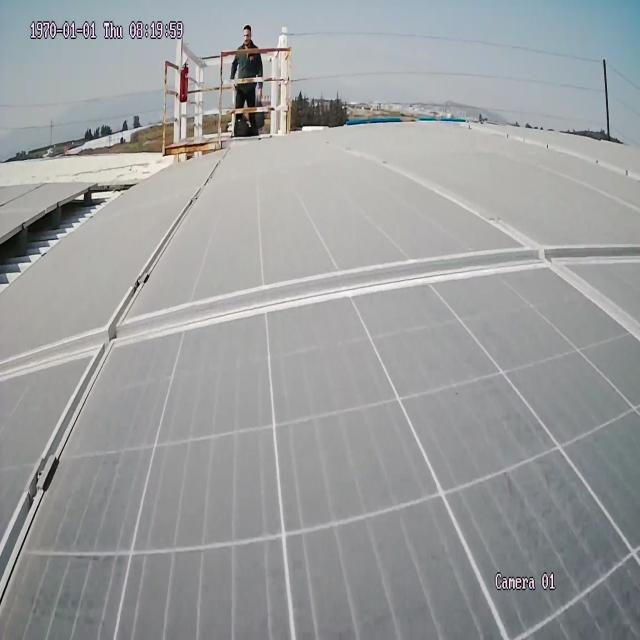interior panel: (0, 133, 640, 637)
outher panel: (1, 180, 140, 300)
